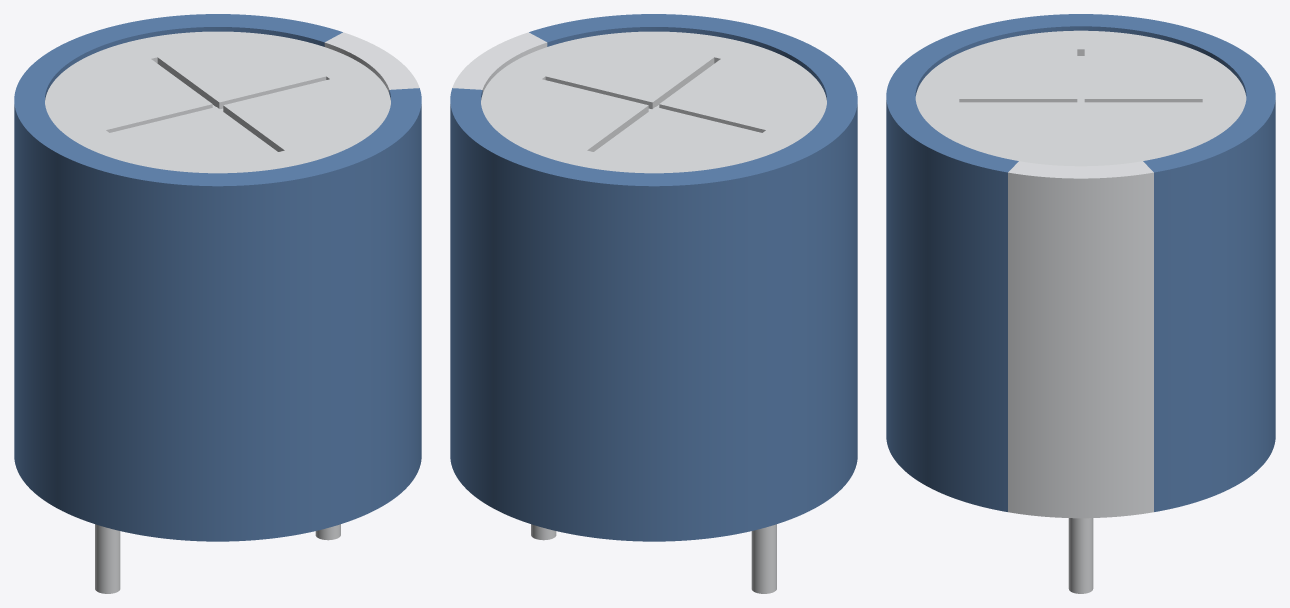
Rendered from aluminum_electrolytic_capacitor_d8_exaggerated.glb.
3 renders of one model, left to right at view 1: azimuth 30°, elevation 25°; view 2: azimuth 150°, elevation 25°; view 3: azimuth 270°, elevation 25°, orthographic. The views are drawn at different scales.
Parts seen in each view (by area): view 1: sleeve, can, stripe, lead_L; view 2: sleeve, can, stripe, lead_L; view 3: sleeve, stripe, can, lead_R.
Boxes of the visible parts, x1,y1,x2,y2 form: sleeve: (14, 14, 421, 541); can: (45, 31, 390, 173); stripe: (324, 32, 419, 93); lead_L: (95, 524, 120, 593); sleeve: (450, 14, 857, 541); can: (481, 31, 826, 173); stripe: (452, 32, 547, 93); lead_L: (751, 524, 776, 593); sleeve: (886, 14, 1275, 511); stripe: (1008, 161, 1153, 518); can: (915, 30, 1246, 166); lead_R: (1068, 518, 1093, 593).
Bounding box in the file's own units: 8 × 10 × 8.
